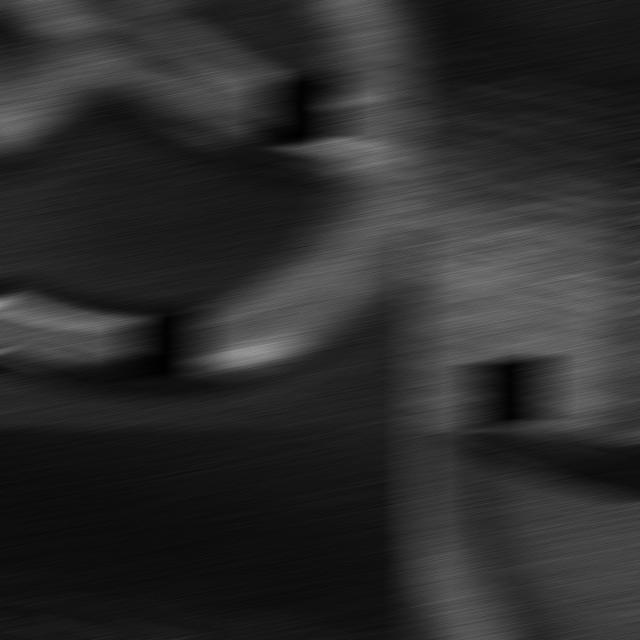Airbag: (0, 1, 424, 426), (408, 1, 640, 426), (0, 429, 424, 638), (408, 429, 640, 638)
